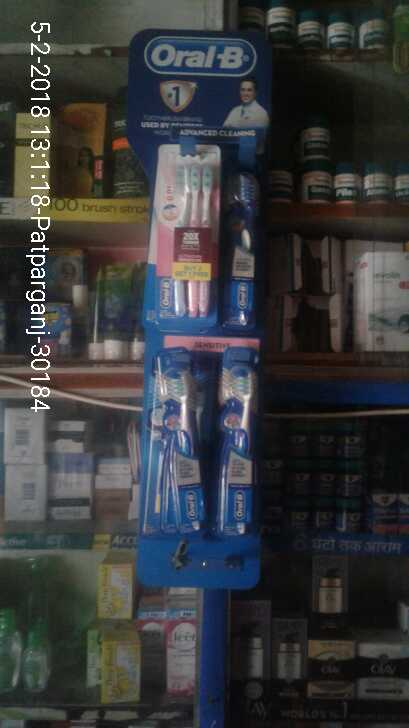oralb: (152, 146, 223, 328), (153, 344, 204, 543), (214, 344, 257, 534), (224, 151, 267, 340)
